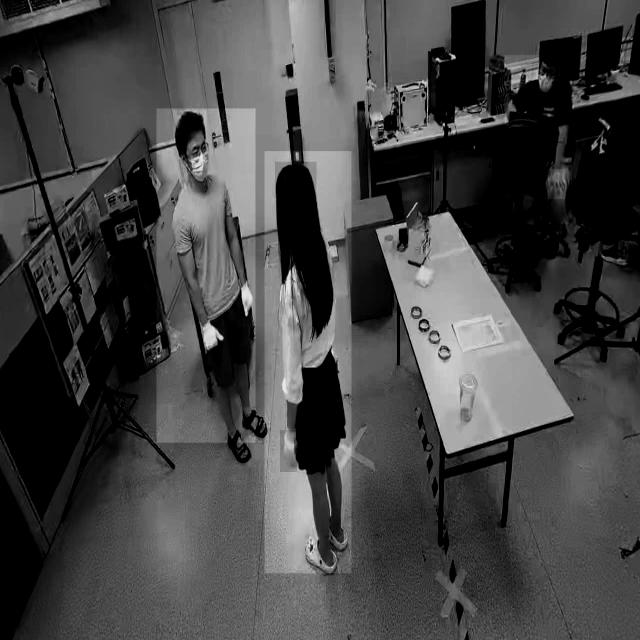face_mask: (187, 143, 210, 189), (534, 67, 554, 93)
hand_glove: (199, 313, 223, 363), (279, 430, 297, 473), (239, 273, 253, 323)
hand_noglove: (548, 169, 566, 200)
head_nohelmet: (274, 162, 316, 199), (172, 110, 206, 138), (540, 43, 562, 65)
person: (264, 151, 352, 574), (156, 109, 256, 444), (504, 55, 572, 225)
